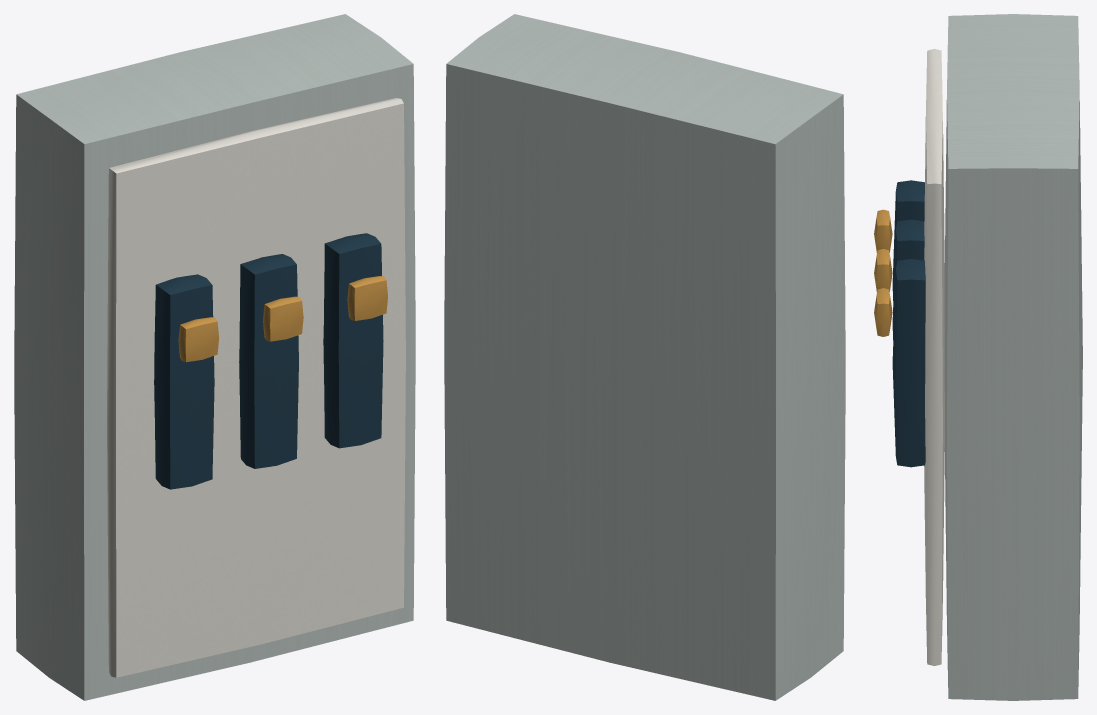
File: panel.glb
The picture shows the model from 3 angles, left to right: view 1: azimuth 30°, elevation 25°; view 2: azimuth 150°, elevation 25°; view 3: azimuth 270°, elevation 25°; orthographic projection. The views are drawn at different scales.
Parts seen in each view (by area): view 1: panel; view 2: panel; view 3: panel.
Boxes of the visible parts, x1=… form: panel: x1=14, y1=14, x2=415, y2=700; panel: x1=444, y1=14, x2=845, y2=700; panel: x1=874, y1=14, x2=1082, y2=700.
Size of the model in its own units: 0.4 by 0.64 by 0.225.
Materials: 8 (8 with a texture image).
